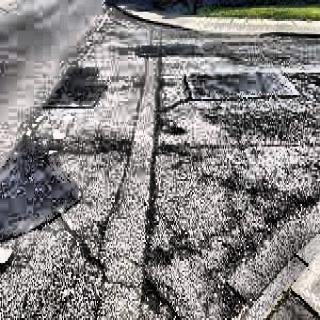crack: (98, 25, 154, 320), (19, 152, 98, 274), (140, 23, 162, 320), (159, 76, 301, 112)
